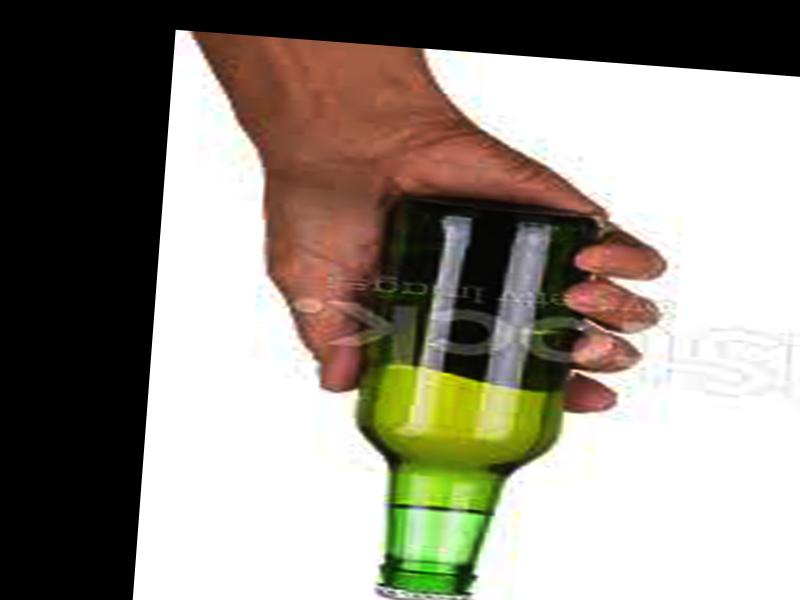Beer: (338, 194, 586, 600)
